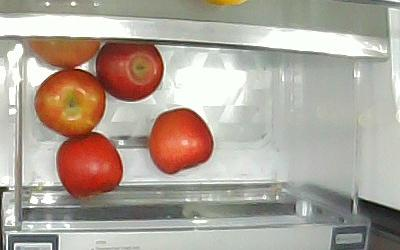apple: (34, 69, 106, 136), (55, 134, 123, 199), (150, 108, 214, 174), (95, 41, 163, 102), (26, 38, 100, 68)
